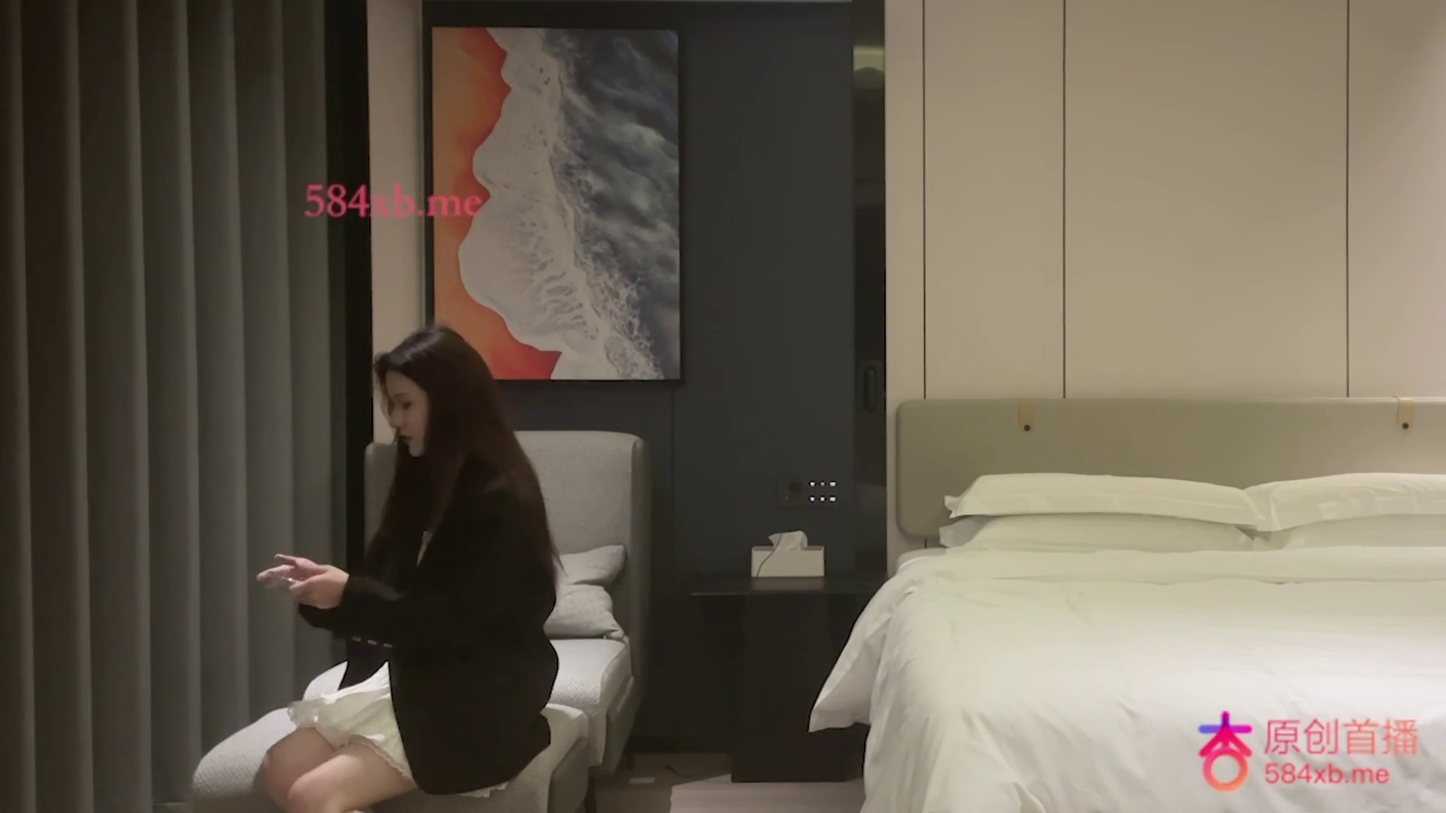sit: (249, 326, 563, 810)
